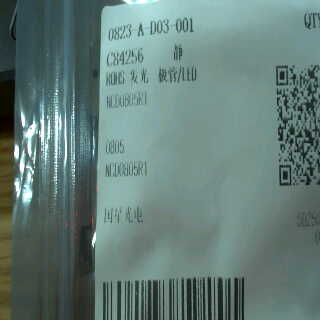LED: (127, 64, 198, 87)
